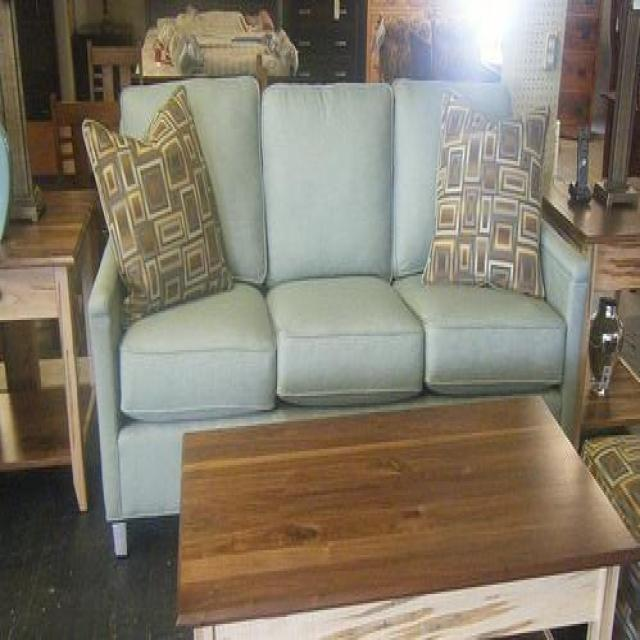sofa: (86, 72, 594, 564)
